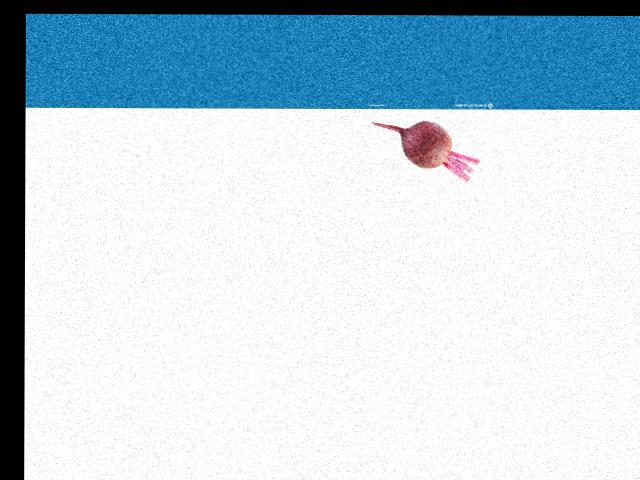beet: (372, 121, 478, 180)
